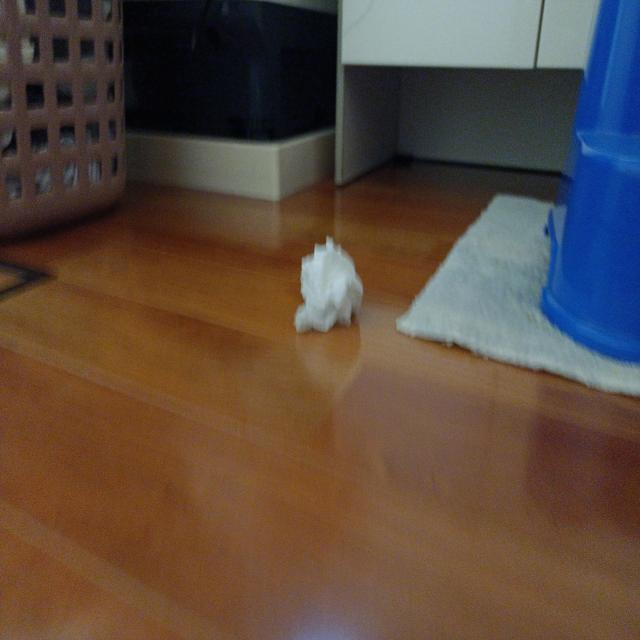衛生紙: (286, 230, 369, 338)
